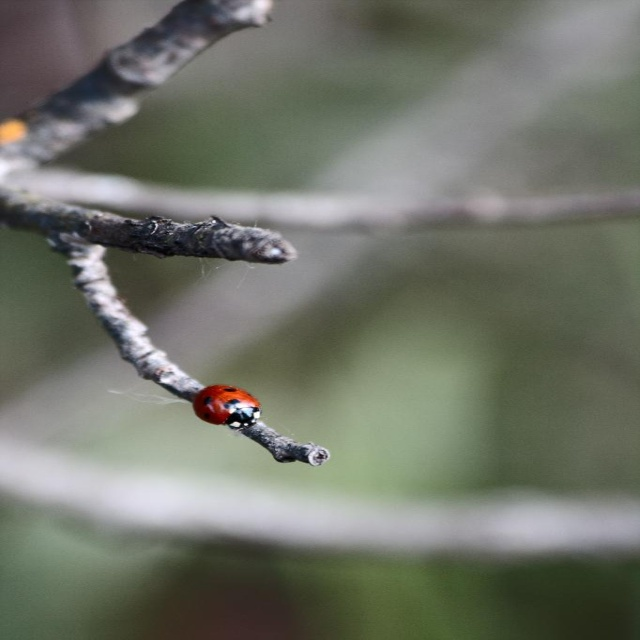Ladybug: (197, 384, 264, 435)
